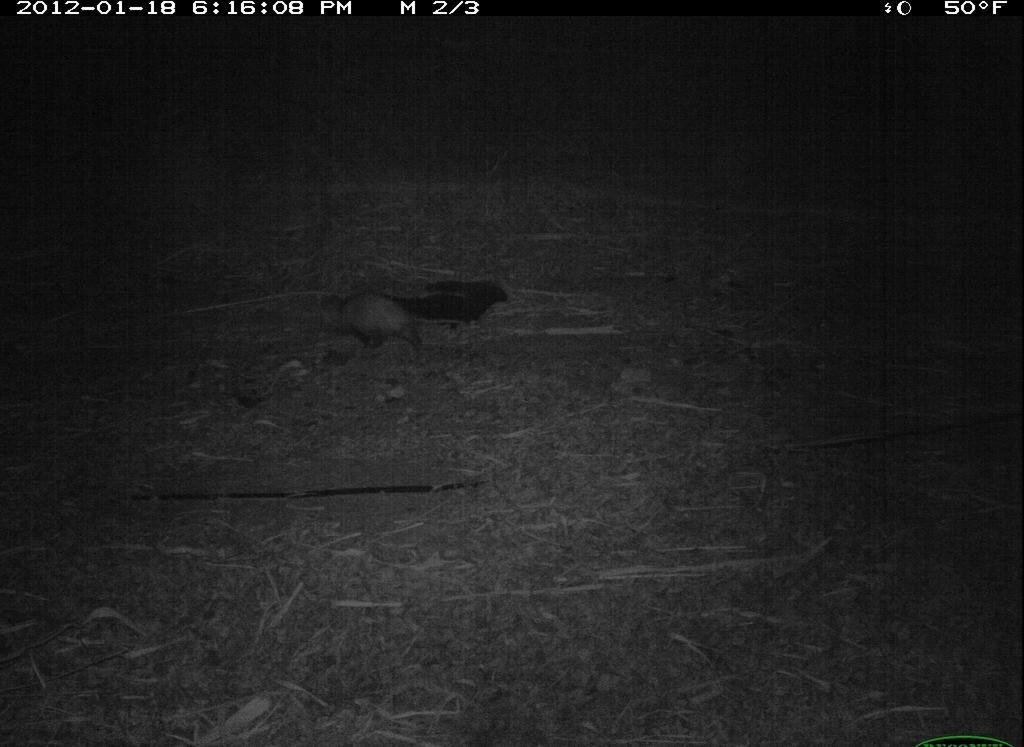opossum: (310, 271, 449, 374)
